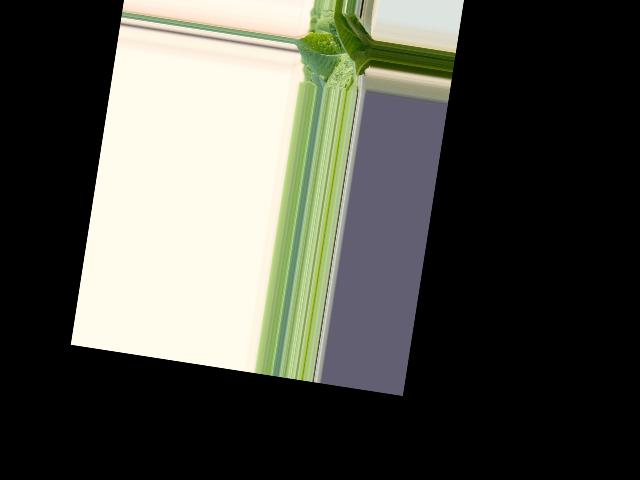lettuce: (296, 7, 377, 86)
